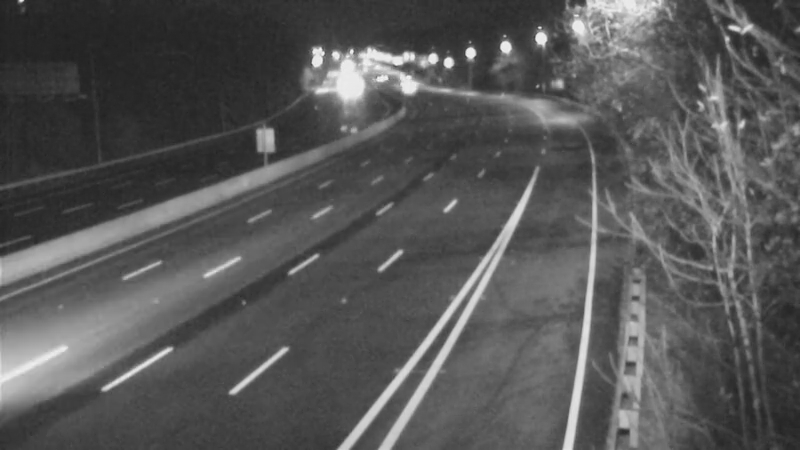vehicle: (378, 54, 428, 104), (389, 61, 439, 111), (318, 66, 368, 116)
